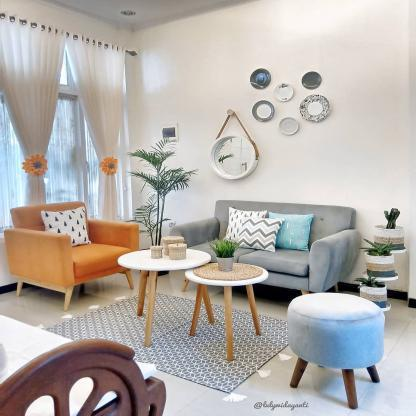bantal: (44, 209, 88, 247), (236, 218, 278, 250), (278, 212, 309, 251)
meja: (118, 247, 261, 359)
sova: (182, 197, 358, 298), (4, 198, 138, 304)
tanaman: (137, 144, 175, 240)
